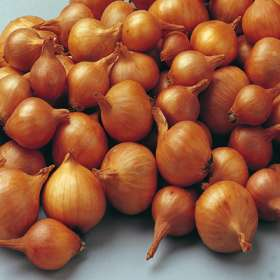onion: (1, 216, 89, 272), (196, 181, 259, 253), (94, 143, 156, 214), (156, 120, 215, 187), (227, 84, 279, 125)
